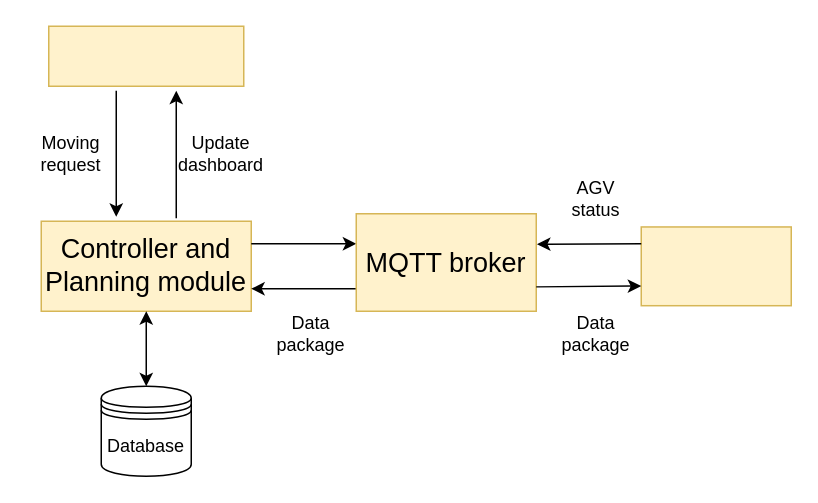
Image size: 818x503. Some labels were removed from this diagram. Here are the shapes that lost their labels. From the top down, the centre of each, then its label:
At pixel 145 55: "Dashboard".
At pixel 715 265: "AGVs".
